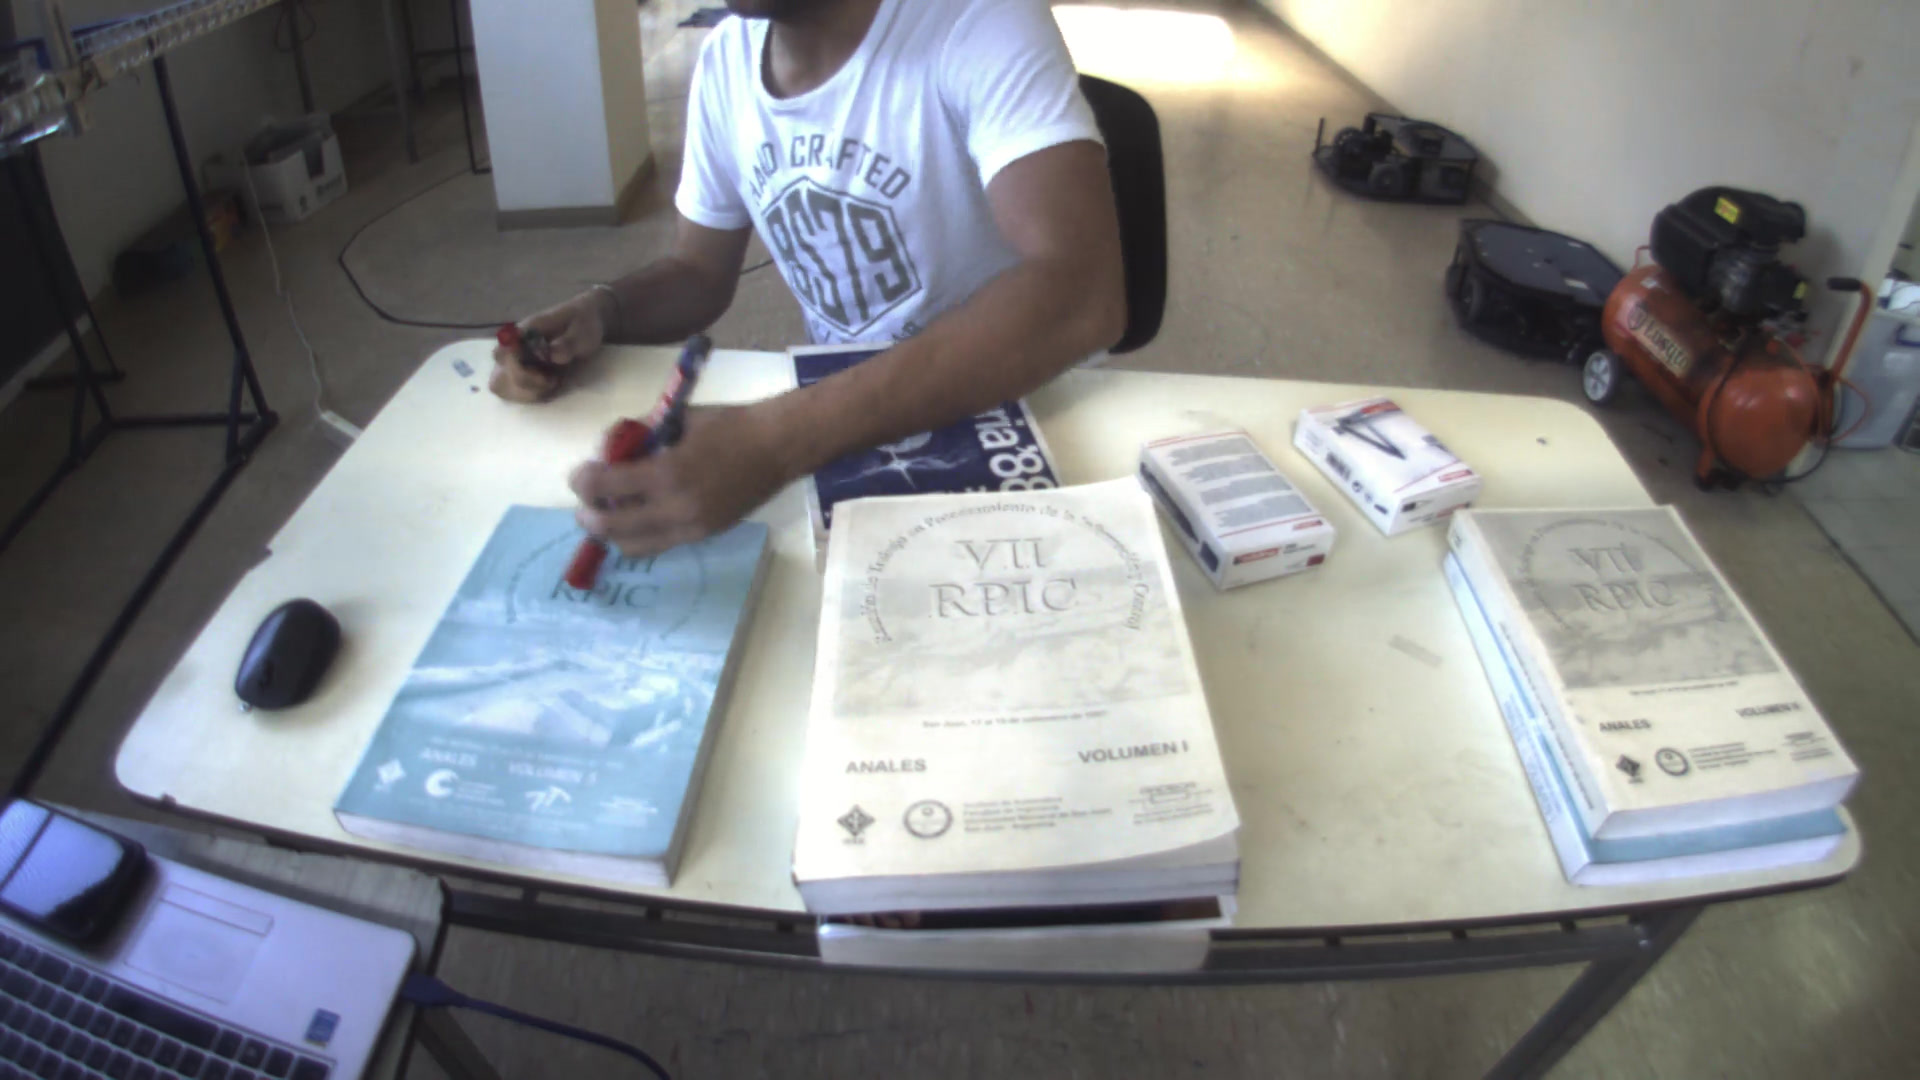hand: (558, 396, 796, 560), (477, 287, 626, 415)
